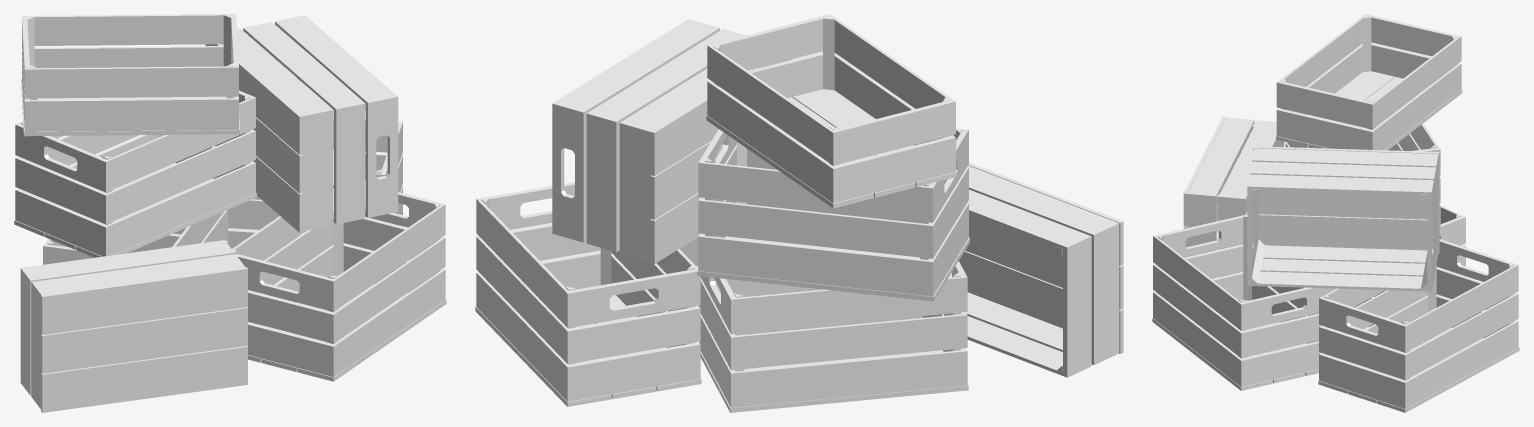
The model's file is Prop_Wooden_Crate_Pile_01.glb.
3 renders of one model, left to right at view 1: azimuth 30°, elevation 25°; view 2: azimuth 150°, elevation 25°; view 3: azimuth 270°, elevation 25°, orthographic. The views are drawn at different scales.
Parts seen in each view (by area): view 1: Prop_Wooden Crate_Pile_01; view 2: Prop_Wooden Crate_Pile_01; view 3: Prop_Wooden Crate_Pile_01.
Part boxes in pixels (x1,y1,x2,y2): Prop_Wooden Crate_Pile_01: (14, 14, 446, 412); Prop_Wooden Crate_Pile_01: (475, 14, 1123, 412); Prop_Wooden Crate_Pile_01: (1152, 14, 1519, 412).
Size of the model in its own units: 1.91 by 1.04 by 1.51.
Materials: 1 (1 with a texture image).
